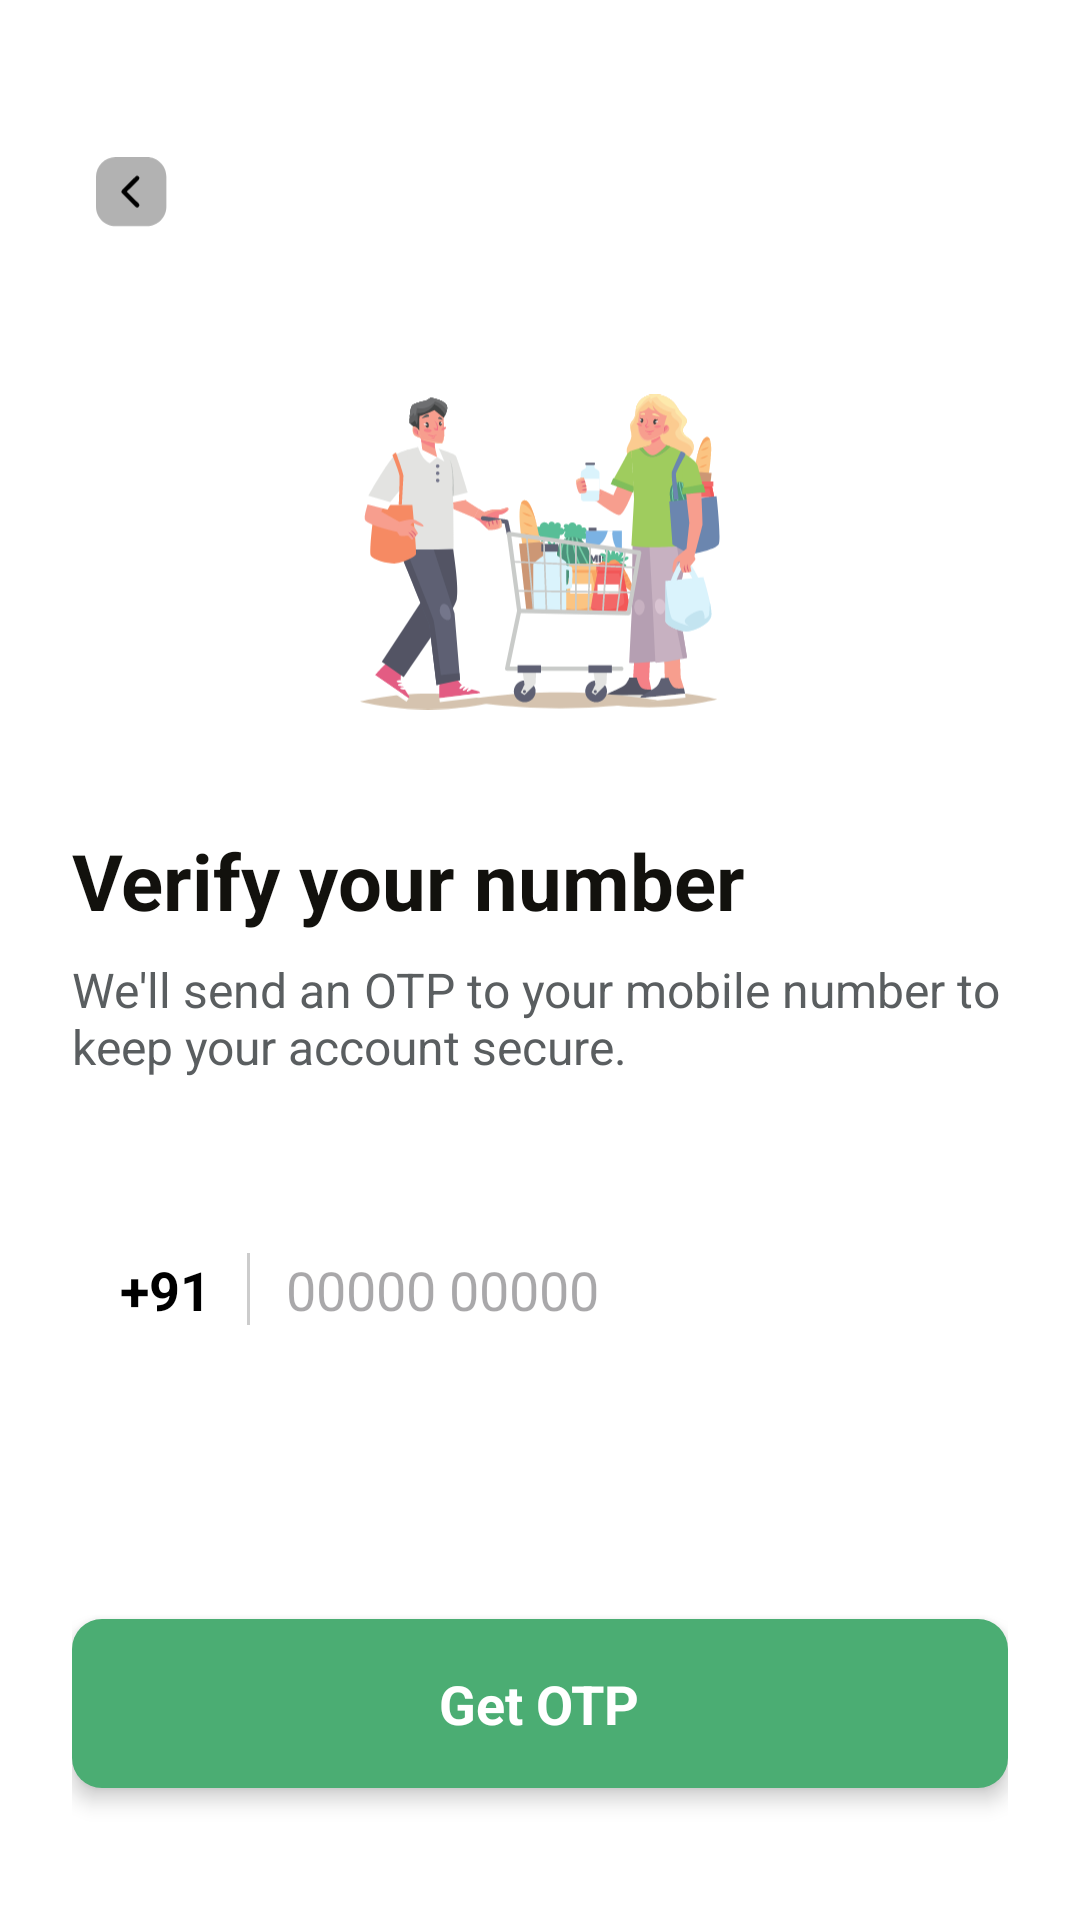

Icons on this 1080*1920 Android screen, each with the point to tap as [x,y]:
back trasparent: [131,191]
welcomepagepeople: [540,552]
